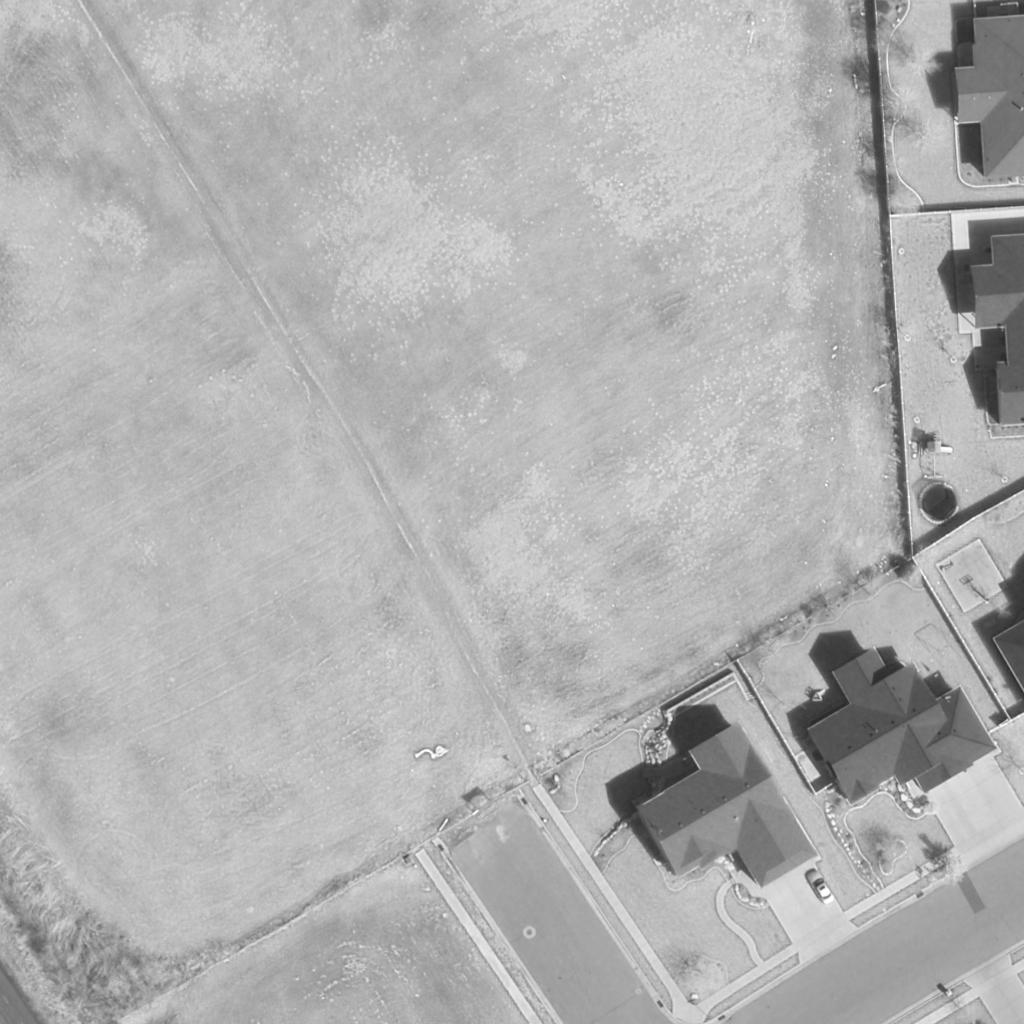vehicle: (802, 868, 836, 906)
